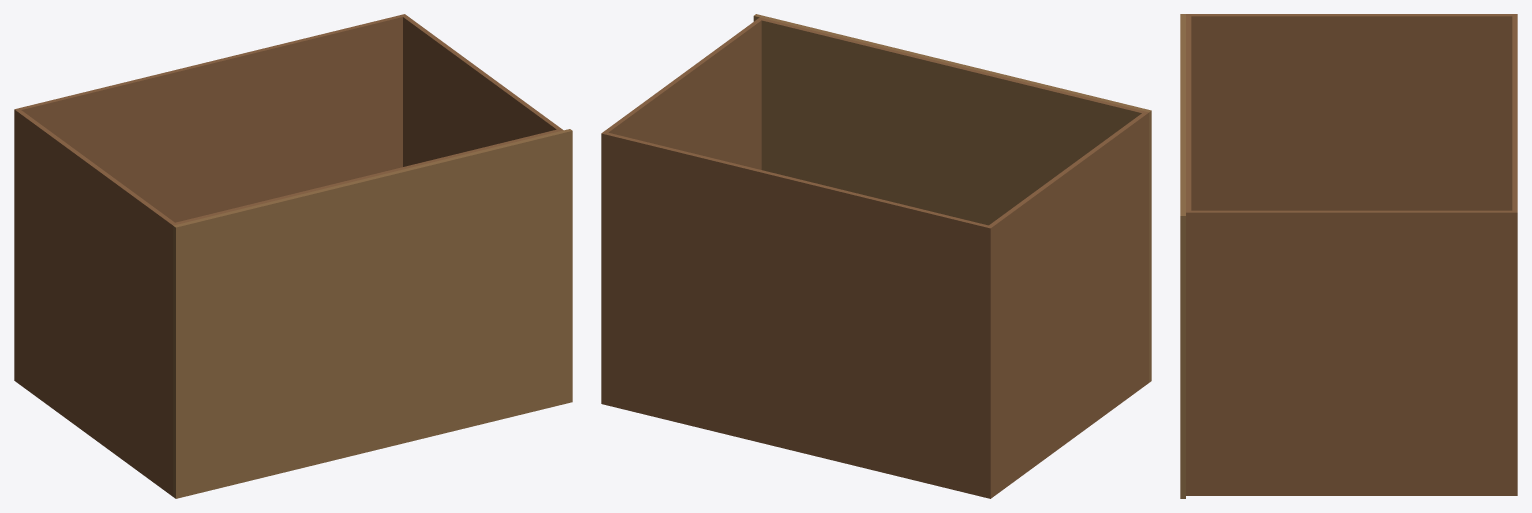
The model's file is Cupboard_21_02.fbx.
3 renders of one model, left to right at view 1: azimuth 30°, elevation 25°; view 2: azimuth 150°, elevation 25°; view 3: azimuth 270°, elevation 25°, orthographic. The views are drawn at different scales.
Visible parts, largest first — view 1: Cupboard_21_02; view 2: Cupboard_21_02; view 3: Cupboard_21_02.
Part boxes in pixels (x1,y1,x2,y2): Cupboard_21_02: (14,14,572,498); Cupboard_21_02: (601,14,1151,498); Cupboard_21_02: (1180,14,1517,498).
Bounding box in the file's own units: 51.11 × 33.4 × 36.06.
